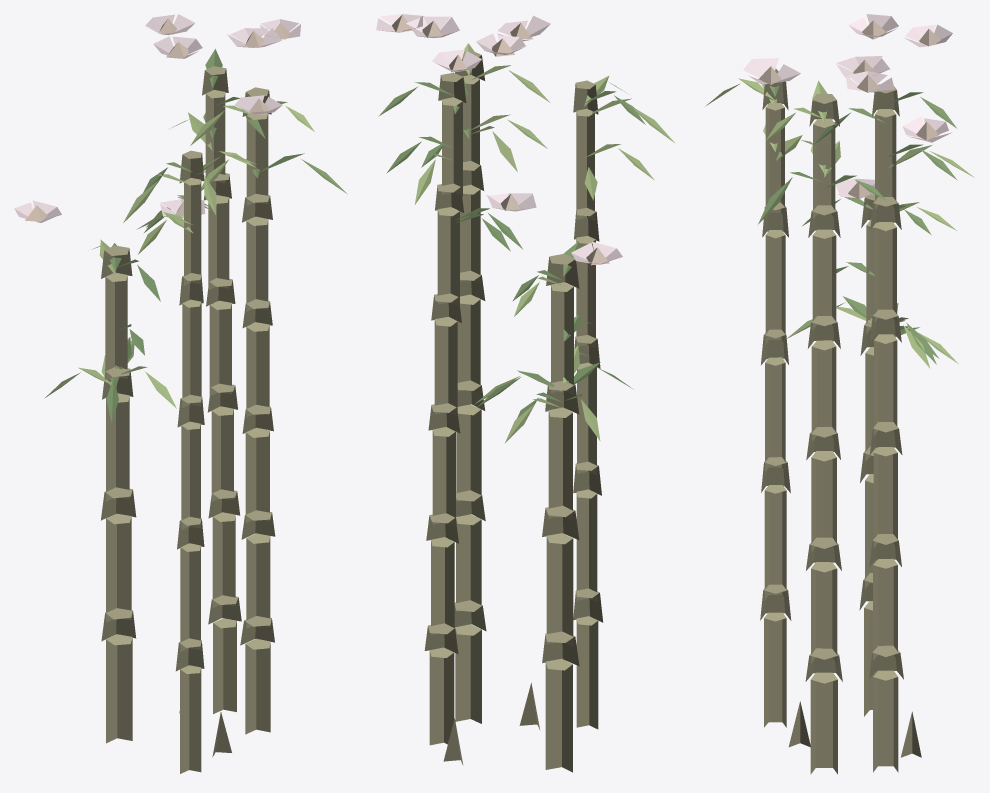
Rendered from hua.zhu@flowering__spring.glb.
3 renders of one model, left to right at view 1: azimuth 30°, elevation 25°; view 2: azimuth 150°, elevation 25°; view 3: azimuth 270°, elevation 25°, orthographic. The views are drawn at different scales.
Parts seen in each view (by area): view 1: hua.zhu@flowering__spring; view 2: hua.zhu@flowering__spring; view 3: hua.zhu@flowering__spring.
Boxes of the visible parts, box(x1,y1,x2,y2) form: hua.zhu@flowering__spring: box(14, 14, 347, 773); hua.zhu@flowering__spring: box(376, 14, 674, 772); hua.zhu@flowering__spring: box(705, 14, 974, 774).
Size of the model in its own units: 2.29 by 5.83 by 1.98.
